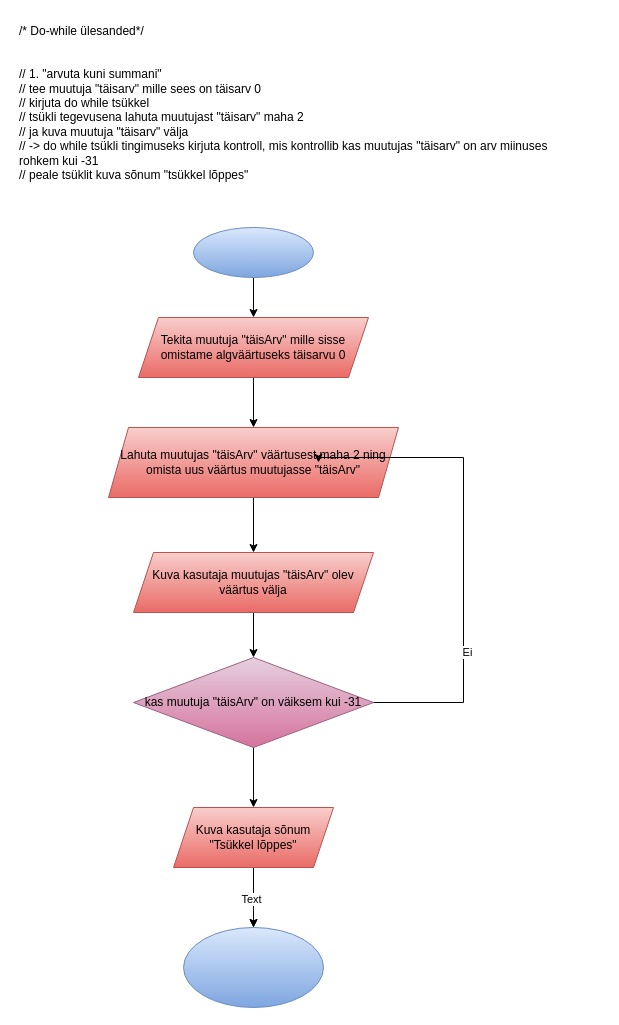
Image size: 619x1025. Some labels were removed from this diagram. The shapes that lost their labels are listed below. From the top down, each one's centre as x and y in pixels, then its label:
At (253,252): "Algus".
At (253,967): "Lõpp".
